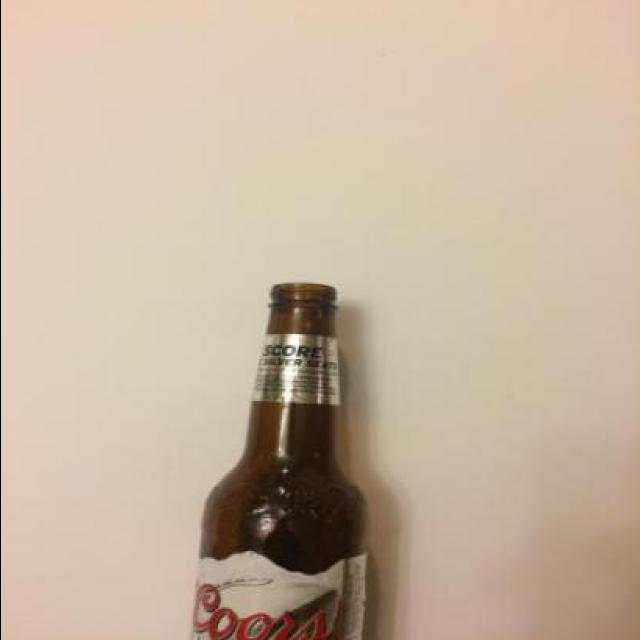kaca: (194, 281, 374, 640)
